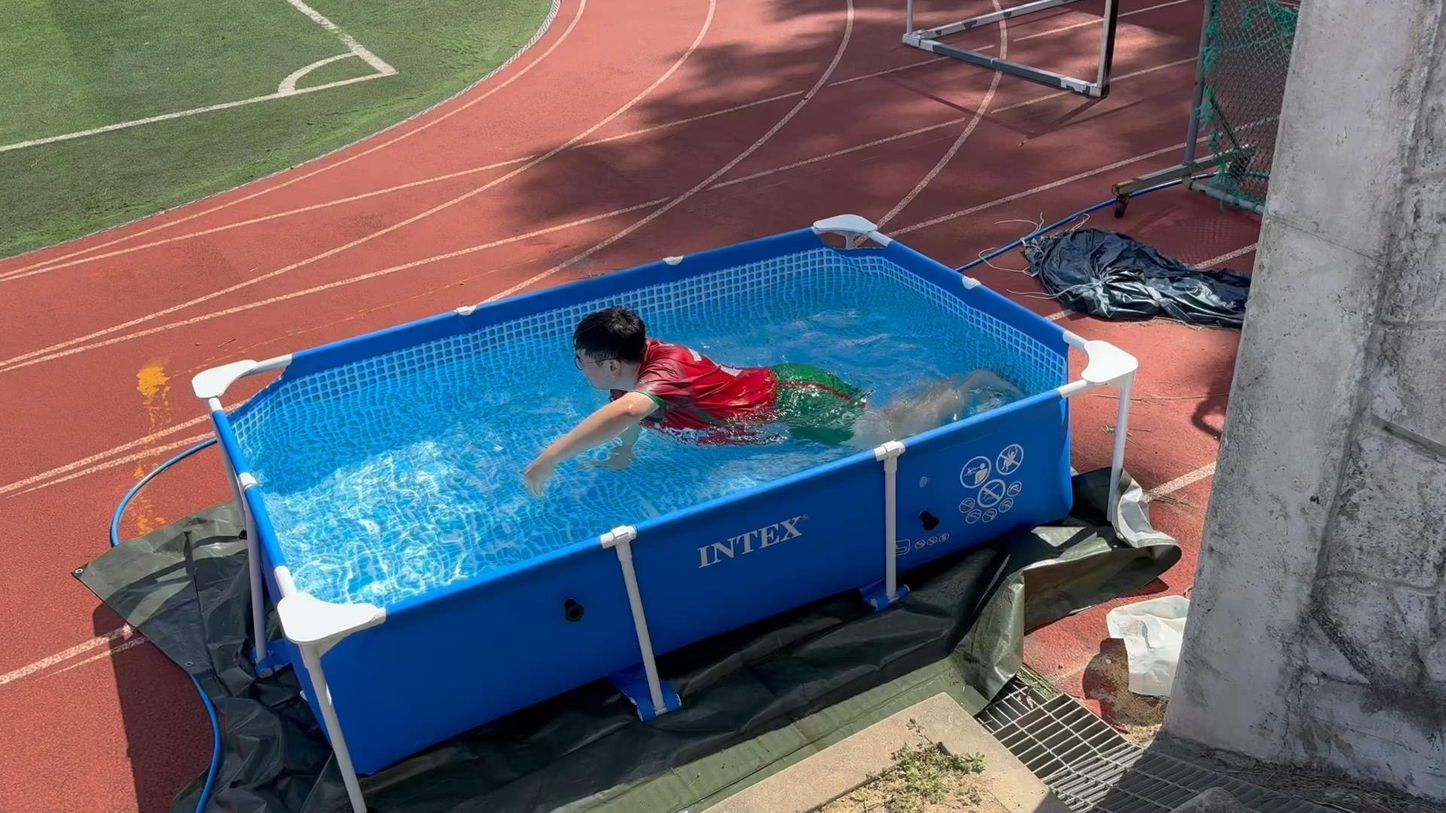Swimming: (480, 274, 1031, 518)
